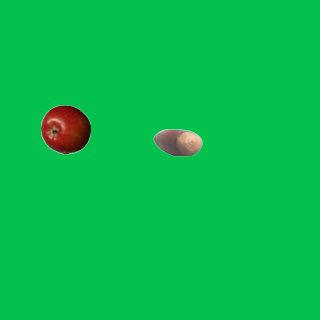Apple Braeburn: (40, 104, 90, 154)
Hazelnut: (152, 117, 202, 167)
